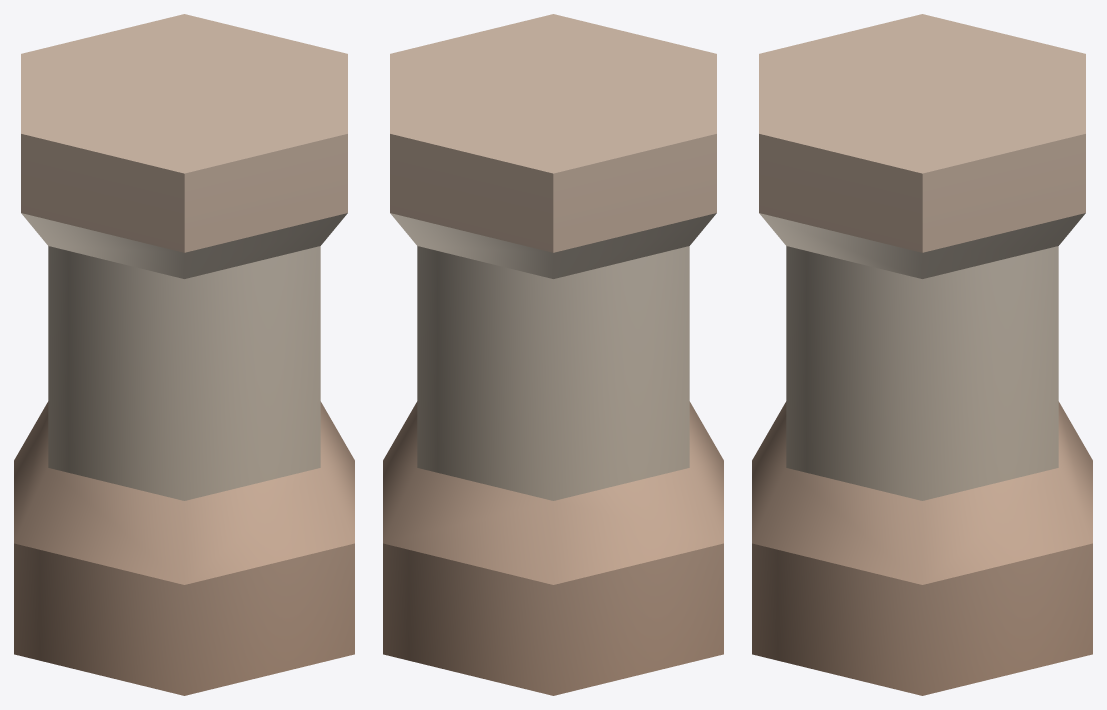
File: tower-hexagon-base.glb
3 views of the same model, side by side, from view 1: azimuth 30°, elevation 25°; view 2: azimuth 150°, elevation 25°; view 3: azimuth 270°, elevation 25° (orthographic).
Parts seen in each view (by area): view 1: tower-hexagon-base; view 2: tower-hexagon-base; view 3: tower-hexagon-base.
Part boxes in pixels (<box>): tower-hexagon-base: <box>14,14,354,695</box>; tower-hexagon-base: <box>383,14,723,695</box>; tower-hexagon-base: <box>752,14,1092,695</box>.
Size of the model in its own units: 0.9 by 1.31 by 0.7794.
